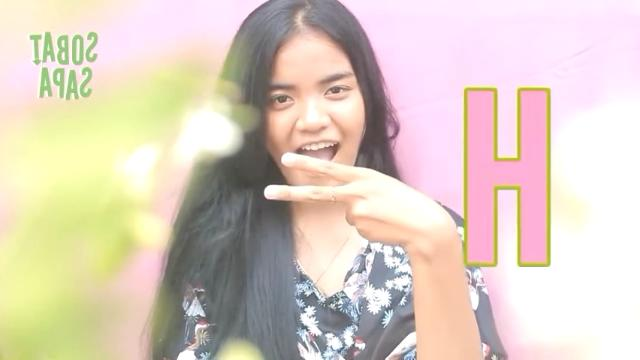H: (264, 153, 456, 248)
